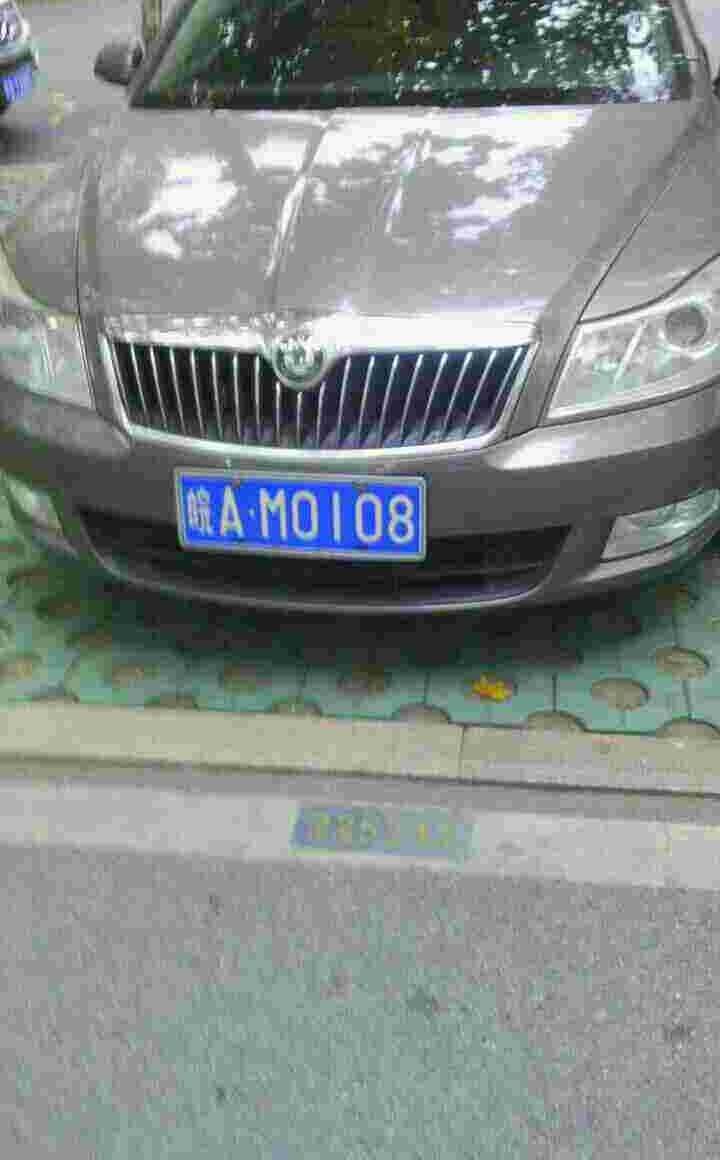license_plate: (187, 478, 424, 563)
